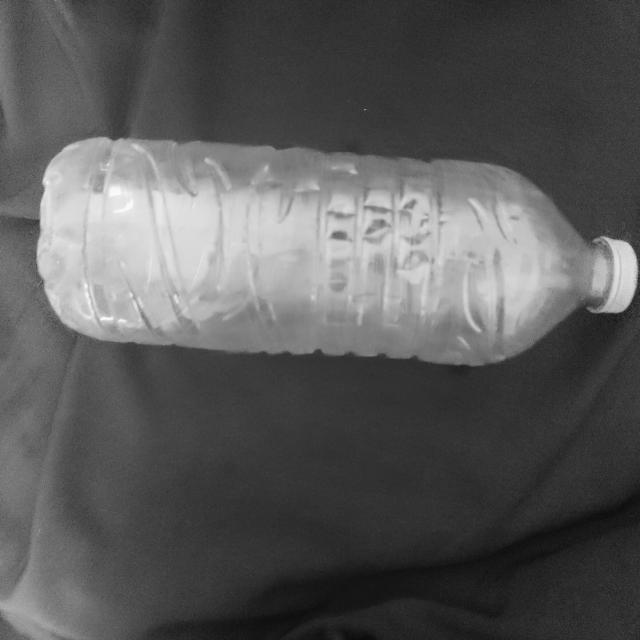plastic: (44, 137, 640, 379)
